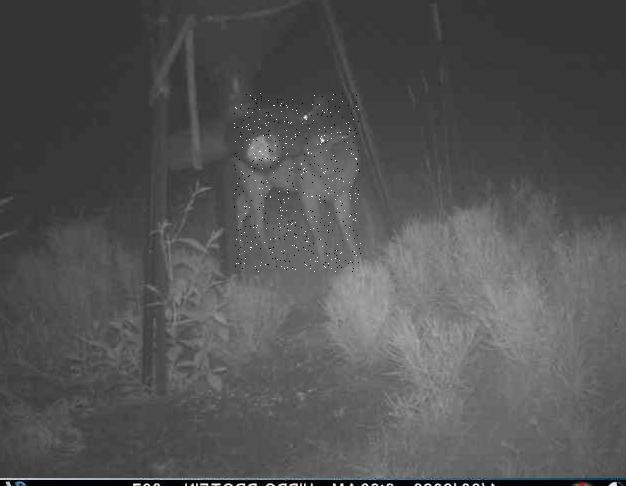Deer: (233, 94, 360, 273)
